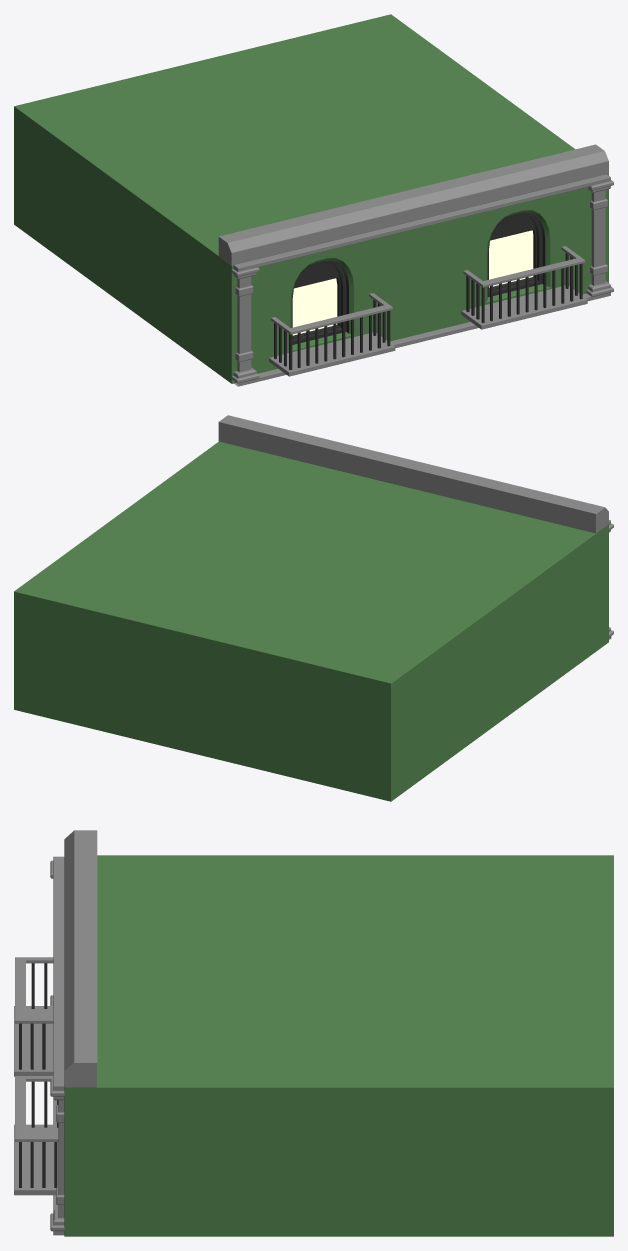
The model's file is Building1 top.fbx.
The picture shows the model from 3 angles, top to bottom: view 1: azimuth 30°, elevation 25°; view 2: azimuth 150°, elevation 25°; view 3: azimuth 270°, elevation 25°; orthographic projection. The views are drawn at different scales.
Visible parts, largest first — view 1: MIDDLE BUILDING TOP; view 2: MIDDLE BUILDING TOP; view 3: MIDDLE BUILDING TOP.
Boxes of the visible parts, box(x1,y1,x2,y2) form: MIDDLE BUILDING TOP: box(14, 14, 613, 386); MIDDLE BUILDING TOP: box(14, 415, 613, 801); MIDDLE BUILDING TOP: box(14, 830, 613, 1236).
Bounding box in the file's own units: 1000 × 350 × 1092.
